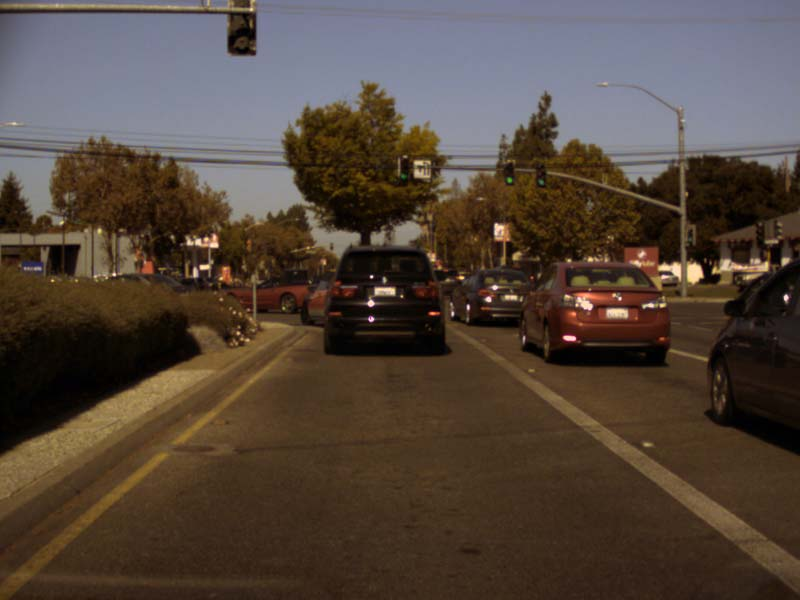Green: (535, 160, 546, 187), (398, 155, 409, 182), (503, 163, 514, 185), (686, 228, 692, 244)
